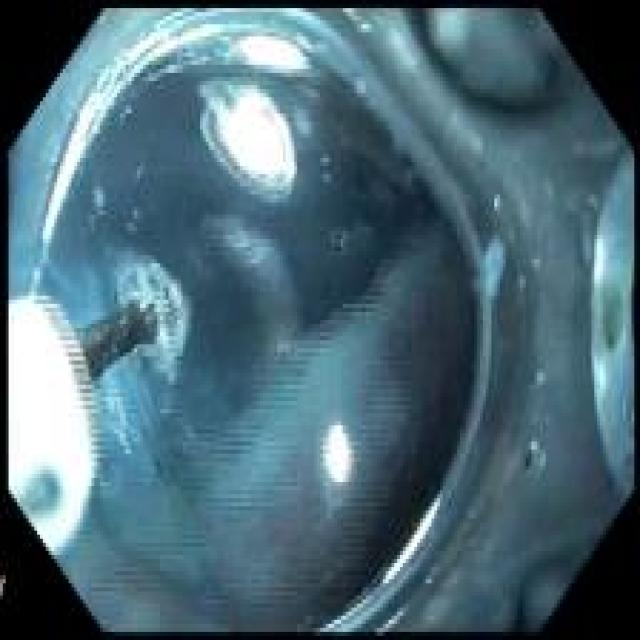instrument: (8, 254, 192, 550)
saturation: (8, 301, 93, 551)
specularity: (42, 88, 112, 242), (217, 89, 294, 193), (385, 494, 440, 583), (143, 25, 222, 64), (237, 35, 306, 74), (323, 423, 352, 484), (126, 32, 166, 64), (594, 239, 605, 283)
